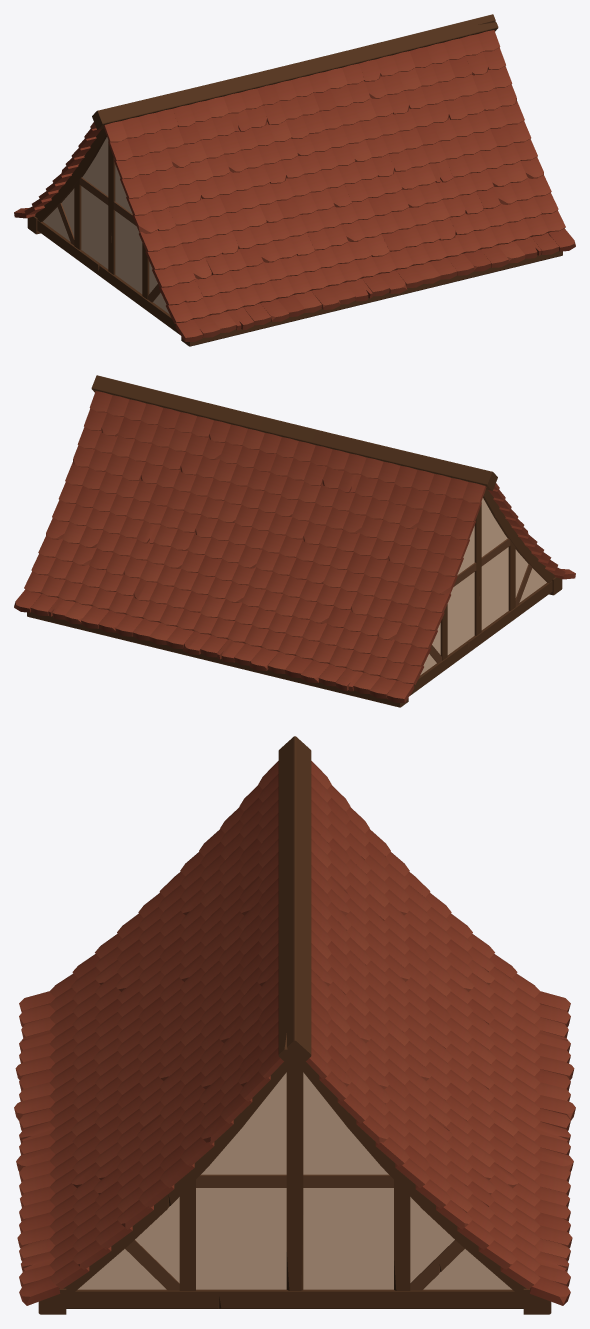
The model's file is HouseRoof_13.glb.
3 renders of one model, top to bottom at view 1: azimuth 30°, elevation 25°; view 2: azimuth 150°, elevation 25°; view 3: azimuth 270°, elevation 25°, orthographic. The views are drawn at different scales.
Parts seen in each view (by area): view 1: HouseRoof_13_LOD0; view 2: HouseRoof_13_LOD0; view 3: HouseRoof_13_LOD0.
Part boxes in pixels (left/top/right/bottom): HouseRoof_13_LOD0: left=14, top=14, right=575, bottom=346; HouseRoof_13_LOD0: left=14, top=375, right=575, bottom=707; HouseRoof_13_LOD0: left=14, top=736, right=575, bottom=1314.
Size of what is drawn, in the model's own units: 11 by 4.77 by 8.58.
Materials: 1 (1 with a texture image).
